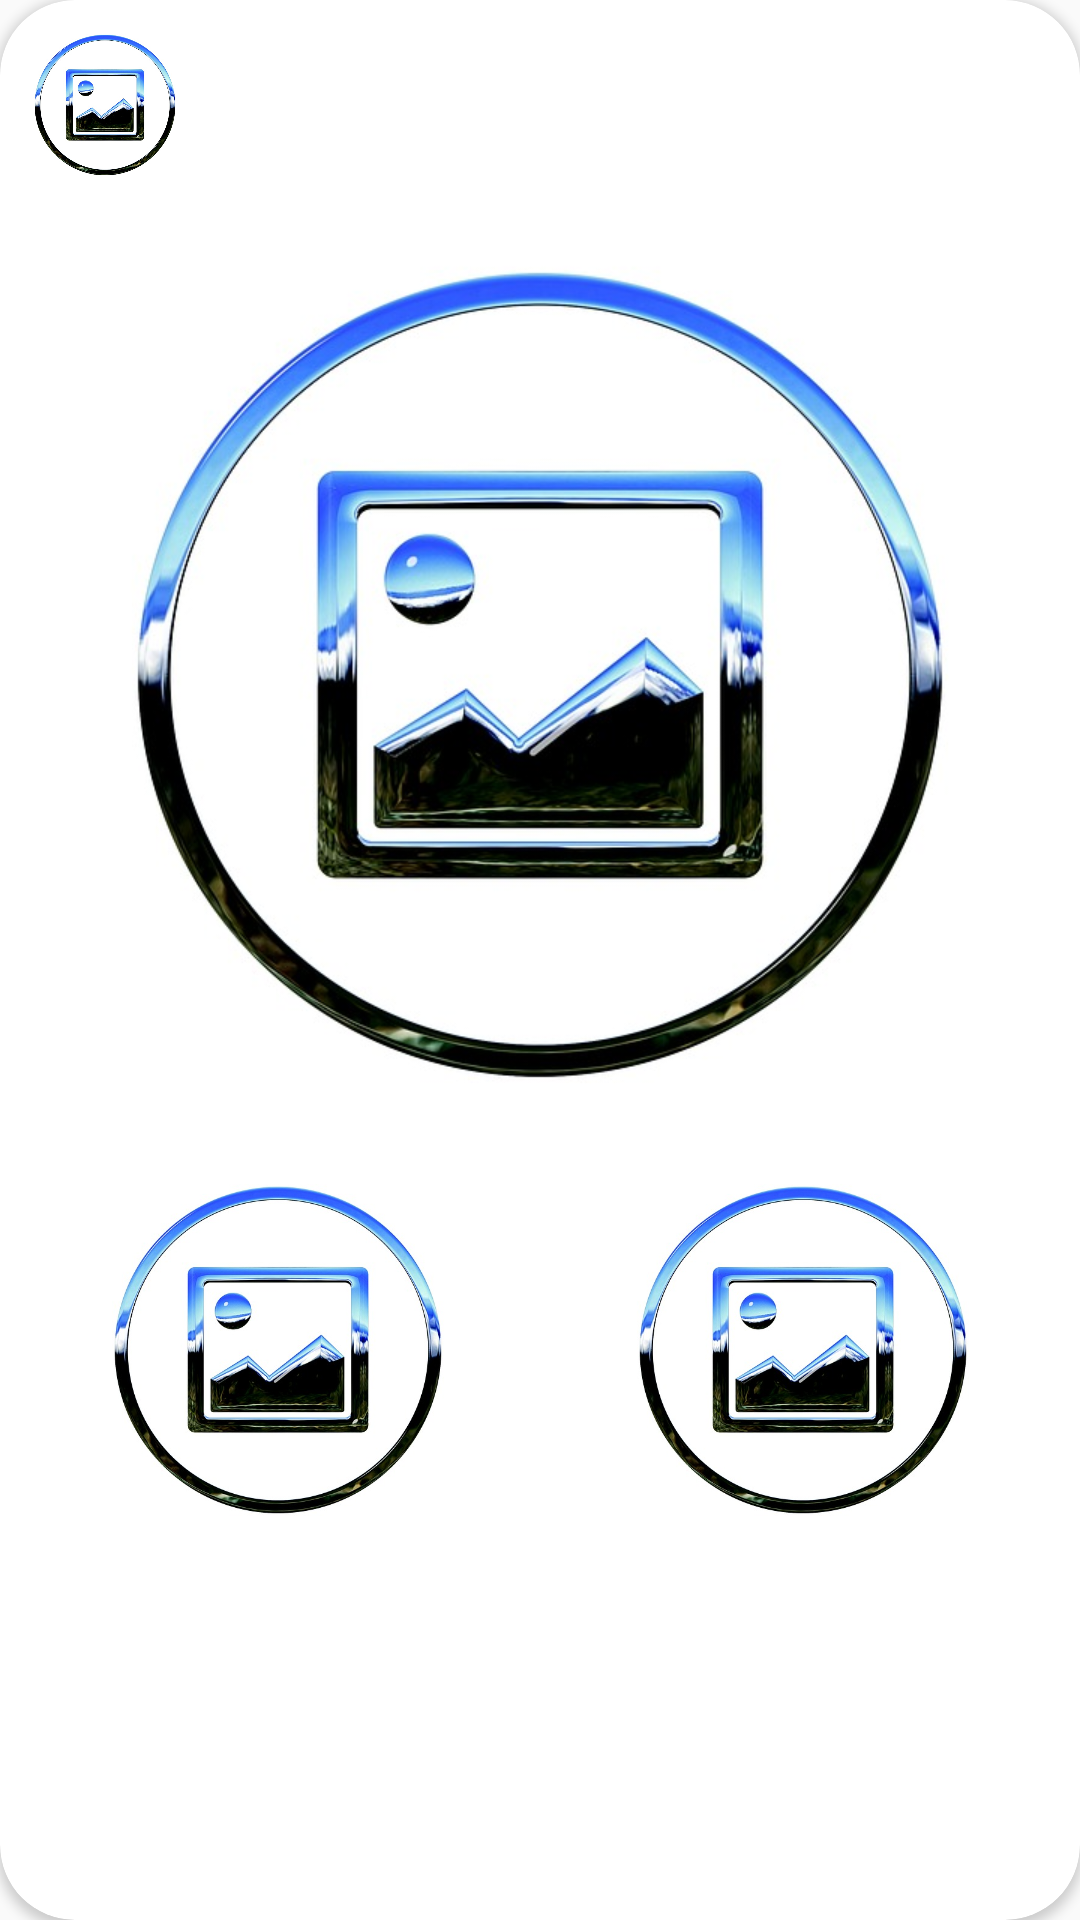

Named icons in this screenshot (1080 x 1920) and their bounding boxes, [x1,y1,x2,y2]:
Imagen del usuario que postea: [35,35,175,175]
